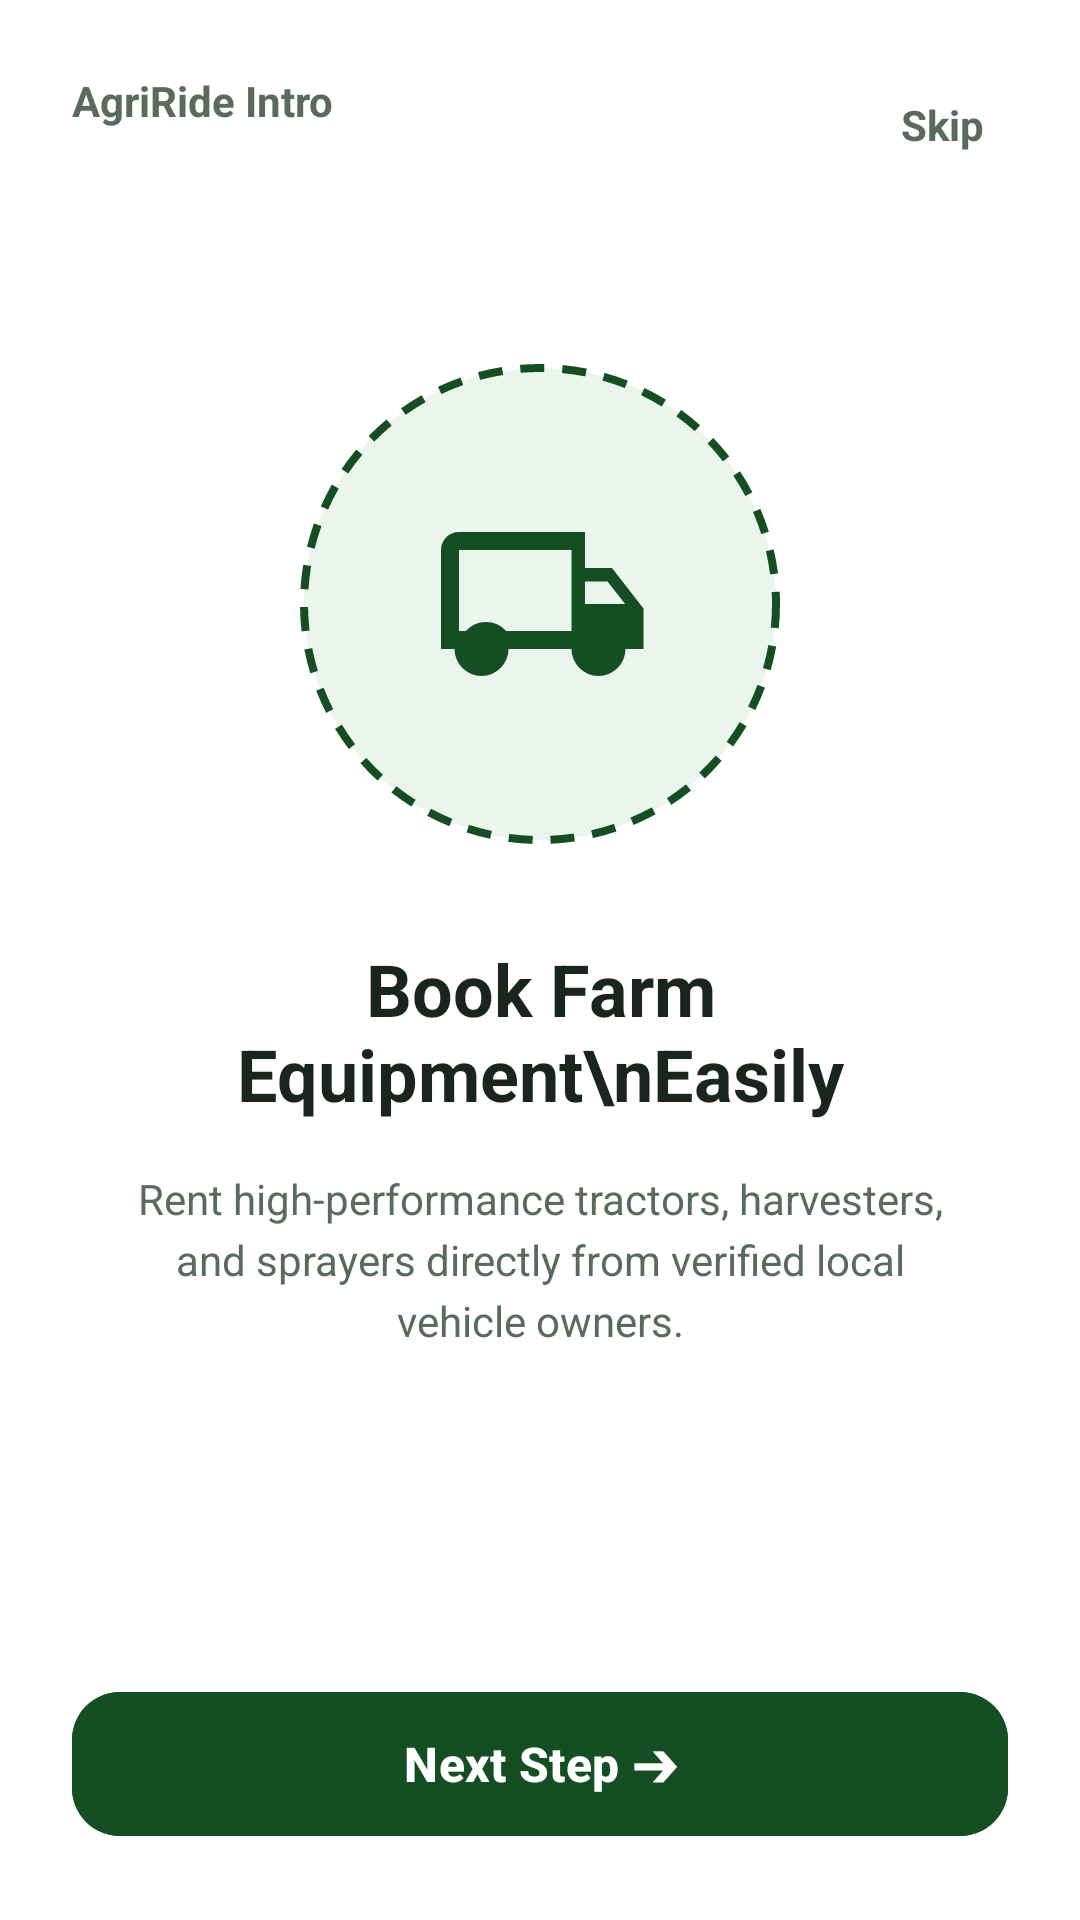

Where icons sit on this 1080 x 1920 app screen, as bbox(x1, y1, x2, y2):
truck: bbox(441, 532, 644, 676)
